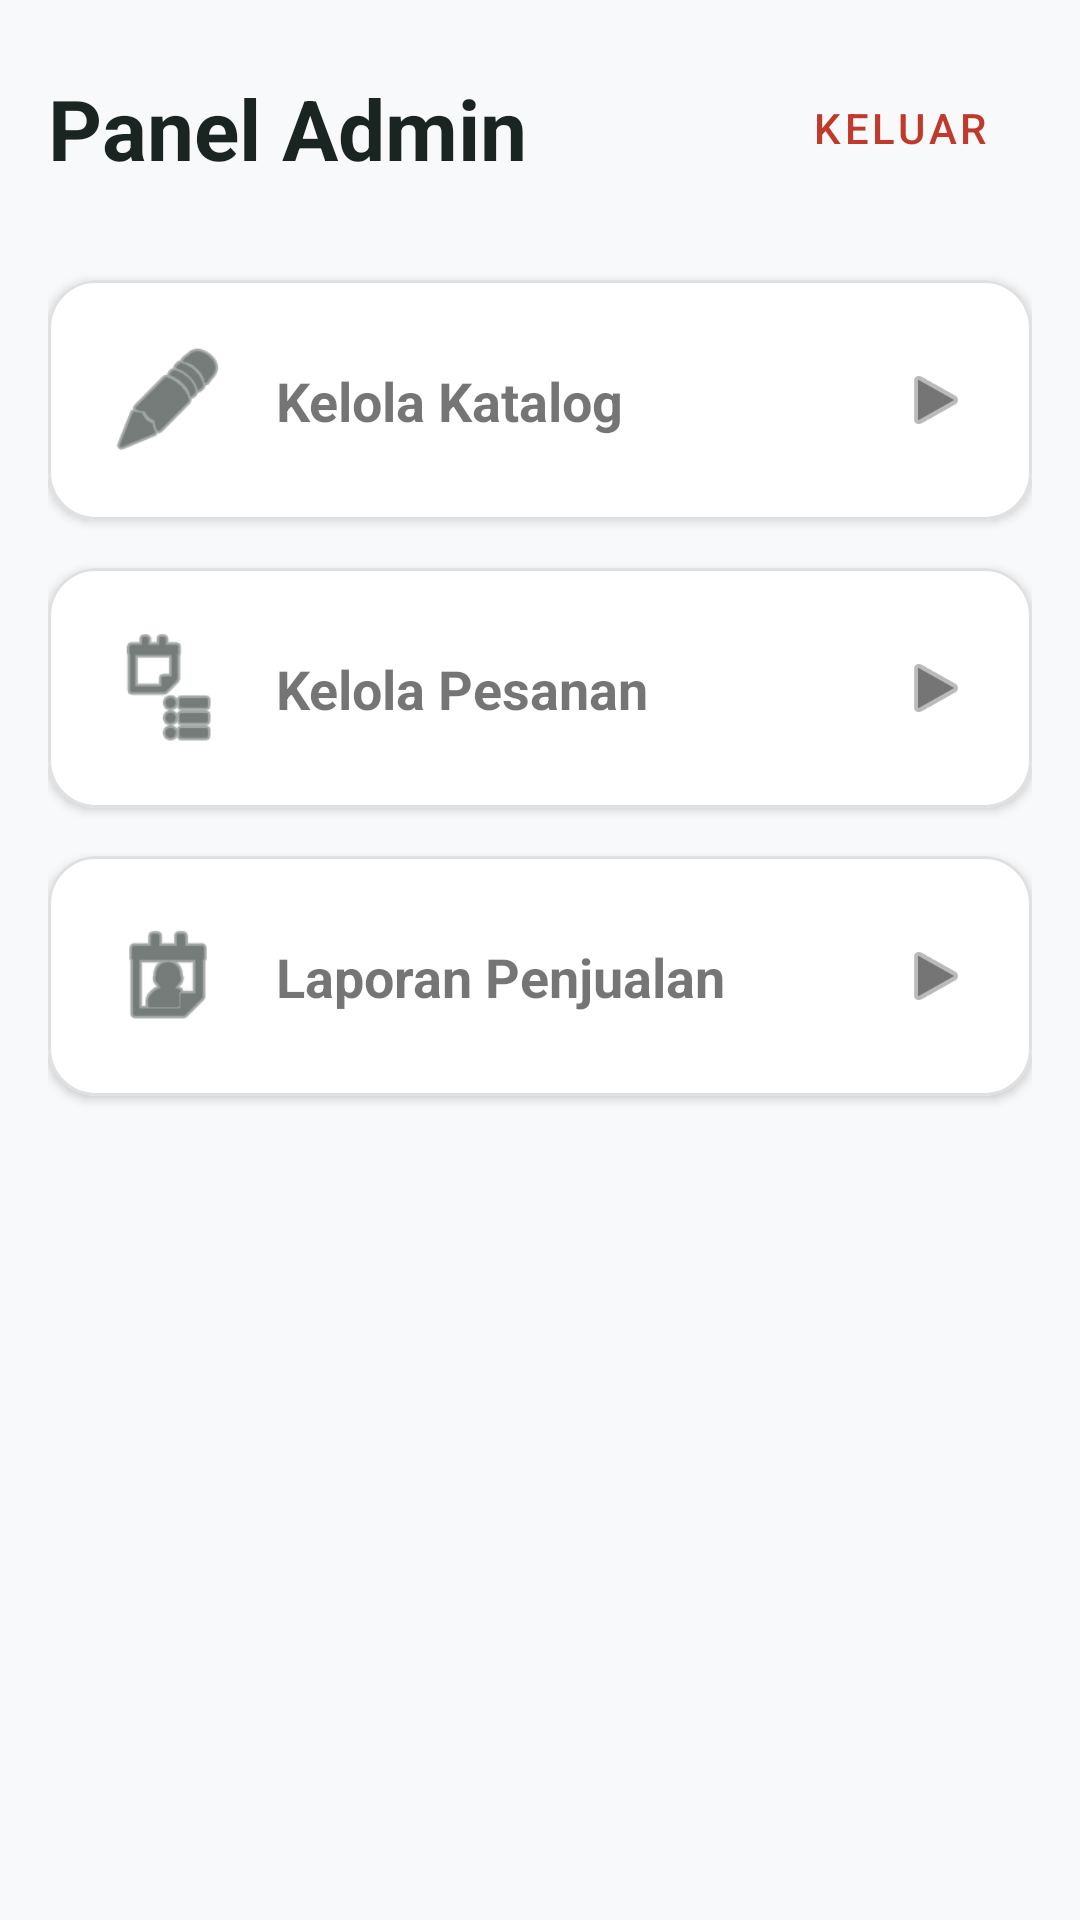

Where icons sit on this 1080w x 1920h app screen, as (x1, y1, x2, y2):
agenda: (126, 634, 211, 741)
calendar: (129, 931, 207, 1019)
edit: (117, 348, 218, 450)
play: (914, 376, 958, 424), (914, 664, 958, 712), (914, 952, 958, 1000)
